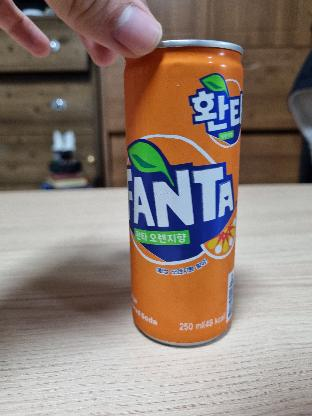Can: (130, 46, 238, 344)
